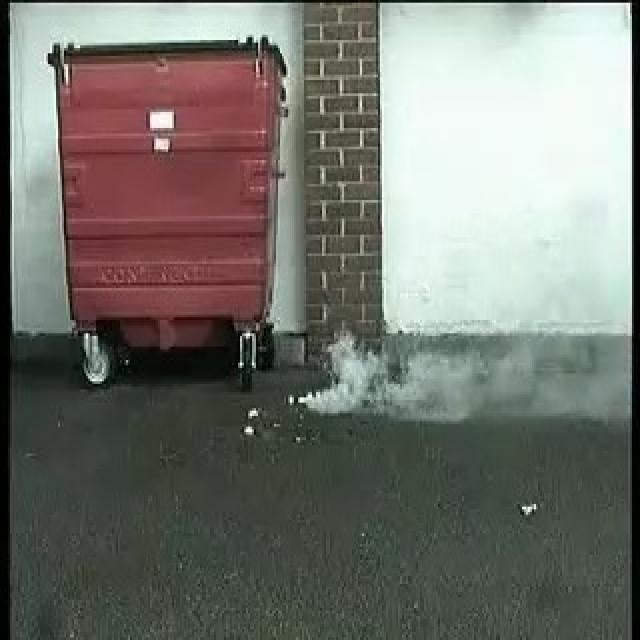smoke: (308, 314, 492, 411)
